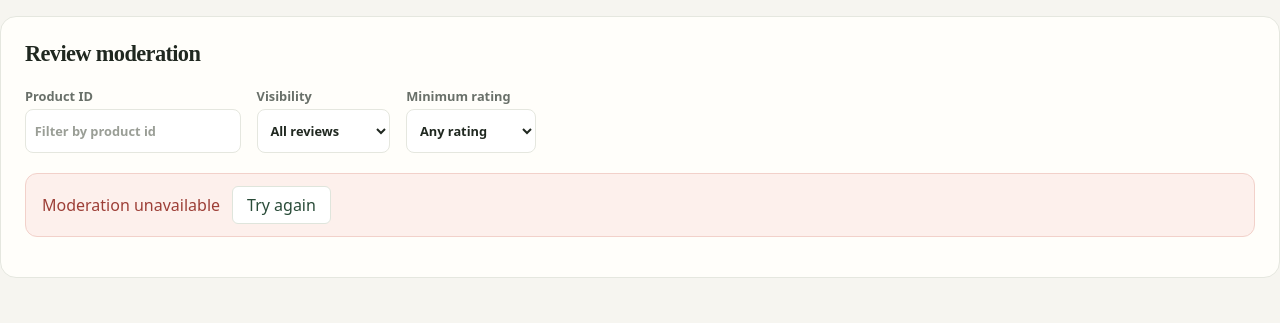
Test: ReviewsModerationSection › shows the error and retries
expect the message shows "Moderation unavailable": met, box 42,194 -> 220,216
Click the button "Try again" at (281, 205), box 232,186 -> 331,224
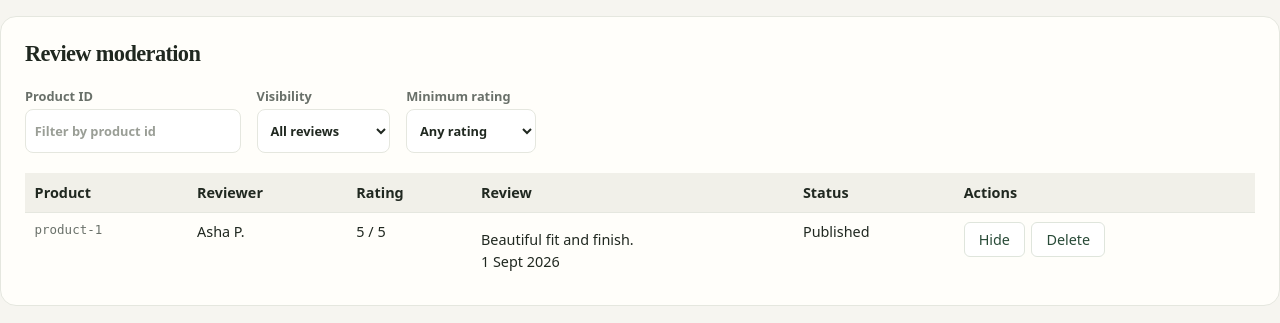
expect the text "Asha P." is shown: met, box 188,212 -> 347,281
